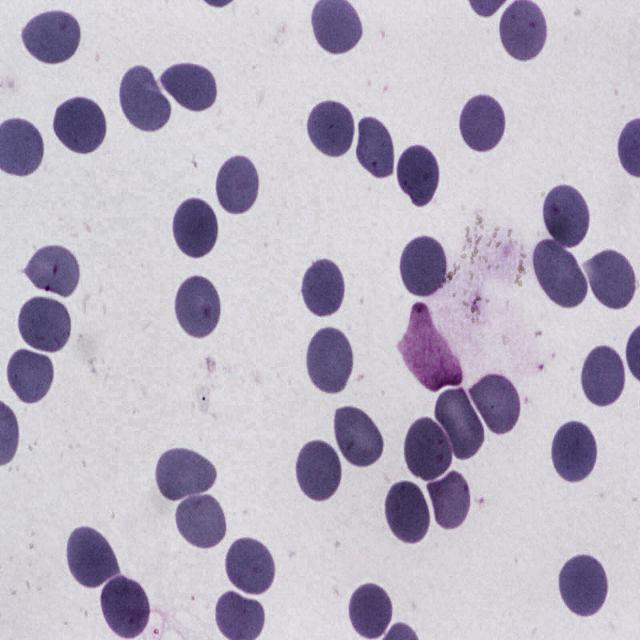red blood cell: (433, 385, 490, 462), (153, 443, 220, 503), (66, 522, 121, 593), (534, 242, 591, 309), (304, 324, 356, 396), (556, 550, 610, 619), (13, 293, 73, 355), (118, 62, 171, 132), (468, 371, 523, 438), (398, 231, 450, 301), (222, 532, 278, 597), (51, 93, 108, 156), (402, 414, 454, 483), (173, 271, 224, 341), (20, 9, 83, 65), (382, 477, 432, 547), (541, 180, 591, 250), (333, 403, 386, 469), (586, 245, 638, 312), (157, 59, 220, 114), (294, 436, 344, 505), (99, 573, 152, 638), (550, 416, 600, 484), (304, 96, 356, 161), (26, 245, 86, 301), (424, 464, 472, 533), (579, 341, 627, 410), (173, 491, 228, 551), (171, 193, 220, 260), (214, 150, 262, 218), (394, 141, 442, 208), (353, 112, 398, 183), (458, 90, 507, 155), (299, 253, 346, 320), (5, 346, 56, 407), (346, 578, 395, 640)
